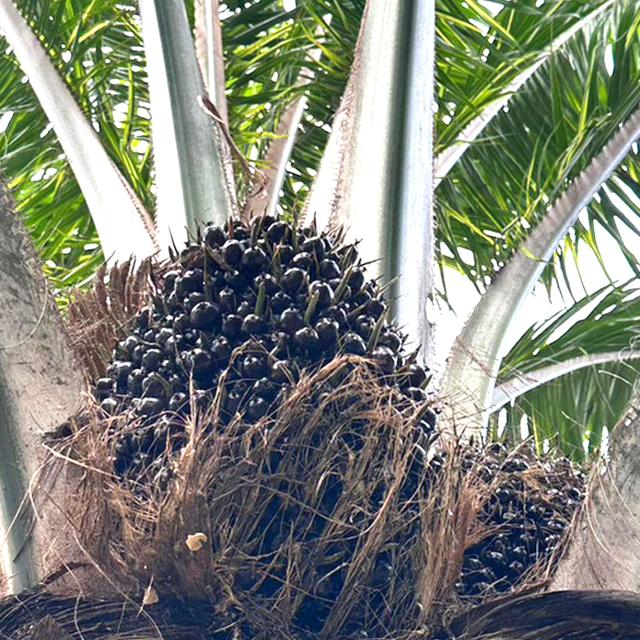almost: (94, 199, 449, 588)
